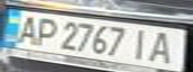2: (54, 19, 81, 52)
6: (90, 22, 112, 56)
7: (106, 24, 130, 58), (75, 20, 96, 53)
A: (145, 28, 184, 65), (12, 12, 42, 45)
I: (127, 26, 157, 61)
P: (30, 16, 60, 47)
